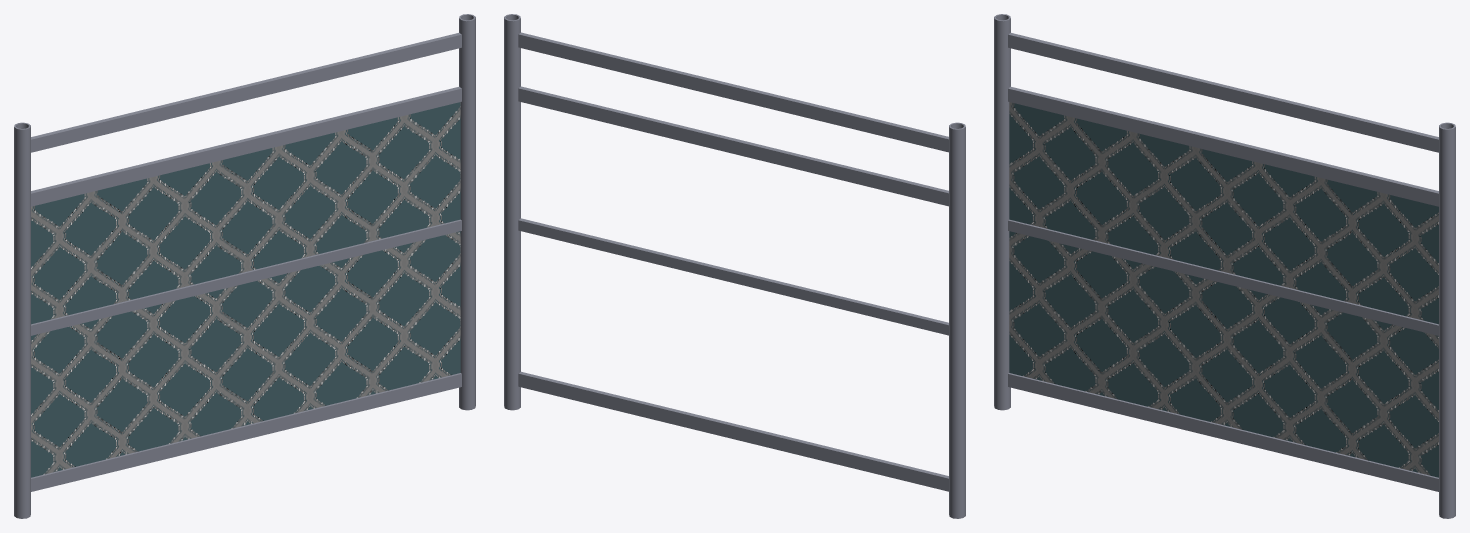
File: prop-fence-panel-DllvzZiX.glb
3 renders of one model, left to right at view 1: azimuth 30°, elevation 25°; view 2: azimuth 150°, elevation 25°; view 3: azimuth 330°, elevation 25°, orthographic.
Parts seen in each view (by area): view 1: fence-panel; view 2: fence-panel; view 3: fence-panel.
Boxes of the visible parts, bbox=[...] form: fence-panel: bbox=[14, 14, 475, 518]; fence-panel: bbox=[504, 14, 965, 518]; fence-panel: bbox=[994, 14, 1455, 518].
Bounding box in the file's own units: 3.55 × 2.88 × 0.1147.
2 materials, 1 textured.
